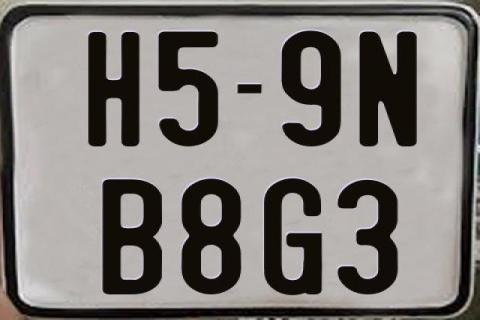0: (335, 178, 400, 298), (179, 176, 241, 295), (279, 28, 339, 146), (157, 30, 218, 146)
B: (102, 178, 163, 296)
G: (264, 177, 327, 297)
H: (88, 31, 142, 148)
N: (358, 30, 417, 146)
